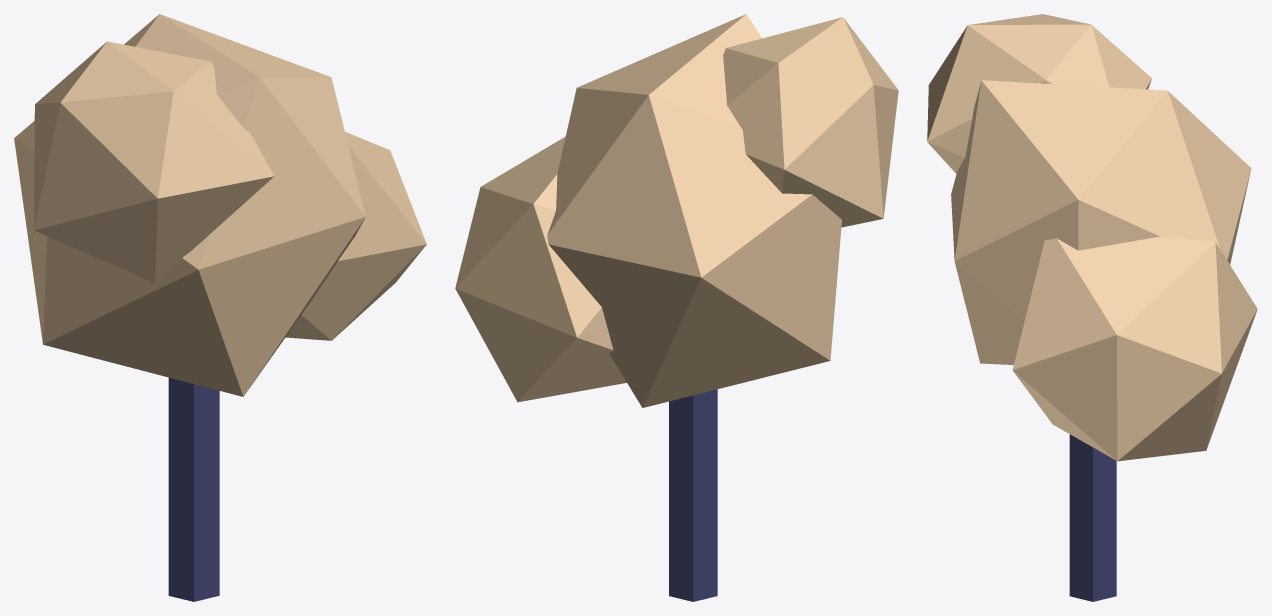
File: maple.glb
3 renders of one model, left to right at view 1: azimuth 30°, elevation 25°; view 2: azimuth 150°, elevation 25°; view 3: azimuth 270°, elevation 25°, orthographic. The views are drawn at different scales.
Parts seen in each view (by area): view 1: Maple; view 2: Maple; view 3: Maple.
Boxes of the visible parts, x1,y1,x2,y2 form: Maple: (14,14,426,601); Maple: (455,14,898,601); Maple: (927,14,1257,601).
Size of the model in its own units: 2.32 by 3.21 by 1.83.
